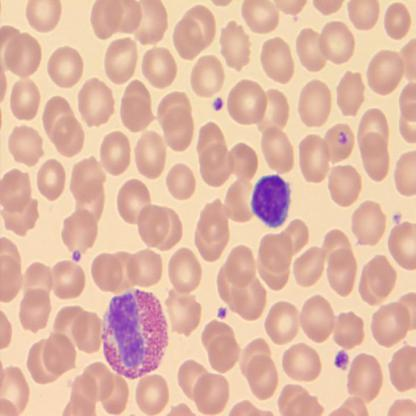Eosinophil: (101, 288, 168, 379), (101, 286, 102, 286)
